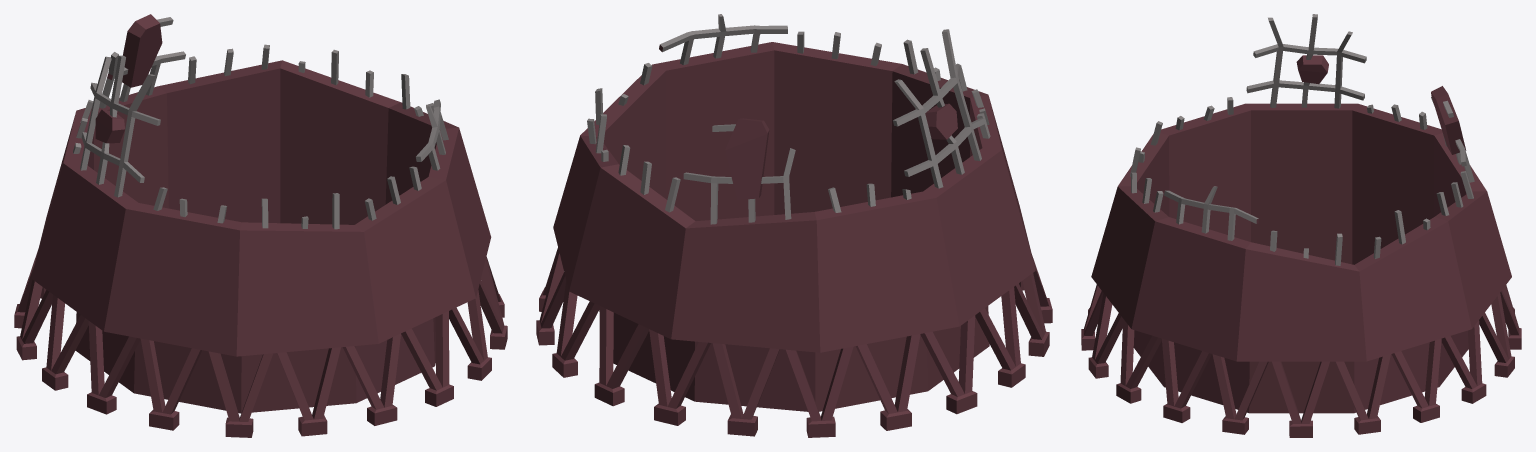
The model's file is cooling-tower-apocalypse-b.fbx.
3 renders of one model, left to right at view 1: azimuth 30°, elevation 25°; view 2: azimuth 150°, elevation 25°; view 3: azimuth 270°, elevation 25°, orthographic. The views are drawn at different scales.
Parts seen in each view (by area): view 1: cooling-tower-apocalypse-b; view 2: cooling-tower-apocalypse-b; view 3: cooling-tower-apocalypse-b.
Boxes of the visible parts, x1=… form: cooling-tower-apocalypse-b: x1=14, y1=14, x2=507, y2=437; cooling-tower-apocalypse-b: x1=536, y1=14, x2=1052, y2=437; cooling-tower-apocalypse-b: x1=1081, y1=14, x2=1521, y2=437.
Bounding box in the file's own units: 26.17 × 17.86 × 26.17.
